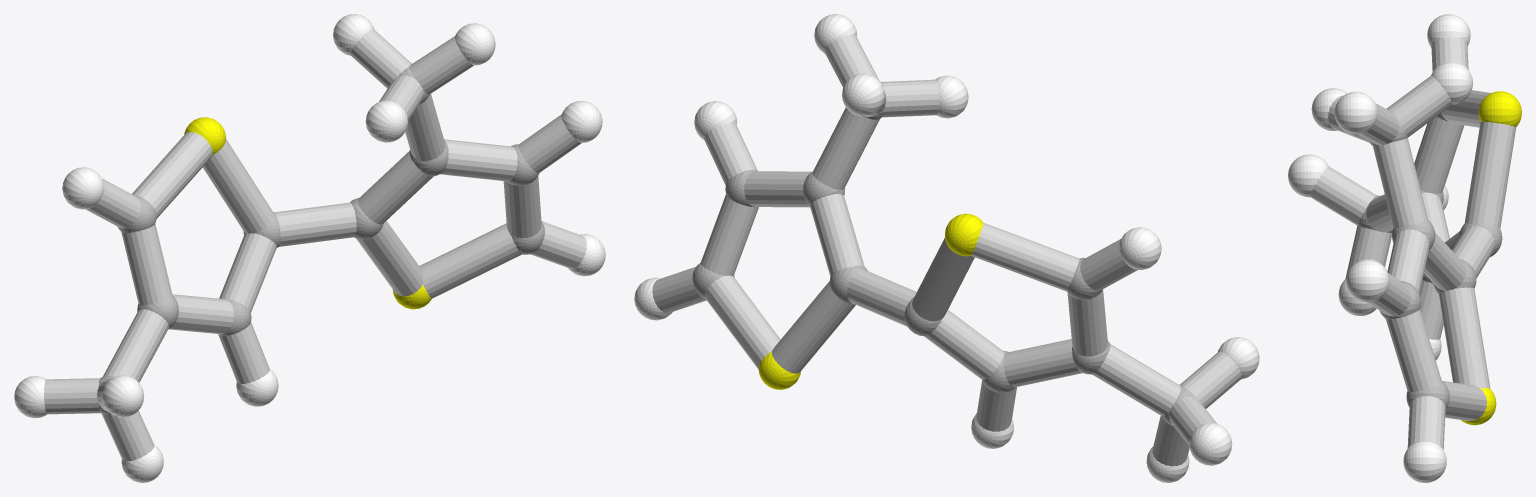
File: color.glb
3 renders of one model, left to right at view 1: azimuth 30°, elevation 25°; view 2: azimuth 150°, elevation 25°; view 3: azimuth 270°, elevation 25°, orthographic. The views are drawn at different scales.
Visible parts, largest first — view 1: grp7965, grp3621, grp1, grp7241; view 2: grp7965, grp3621, grp1, grp7241; view 3: grp7965, grp3621, grp1, grp7241.
Boxes of the visible parts, x1,y1,x2,y2 form: grp7965: (44, 29, 586, 461); grp3621: (14, 14, 605, 482); grp1: (98, 66, 544, 414); grp7241: (184, 117, 431, 309); grp7965: (652, 34, 1241, 466); grp3621: (634, 14, 1259, 482); grp1: (692, 81, 1196, 426); grp7241: (758, 213, 983, 389); grp7965: (1310, 37, 1516, 449); grp3621: (1288, 14, 1472, 482); grp1: (1358, 109, 1502, 408); grp7241: (1461, 91, 1521, 425).
Size of the model in its own units: 9.56 by 5.88 by 3.24.
